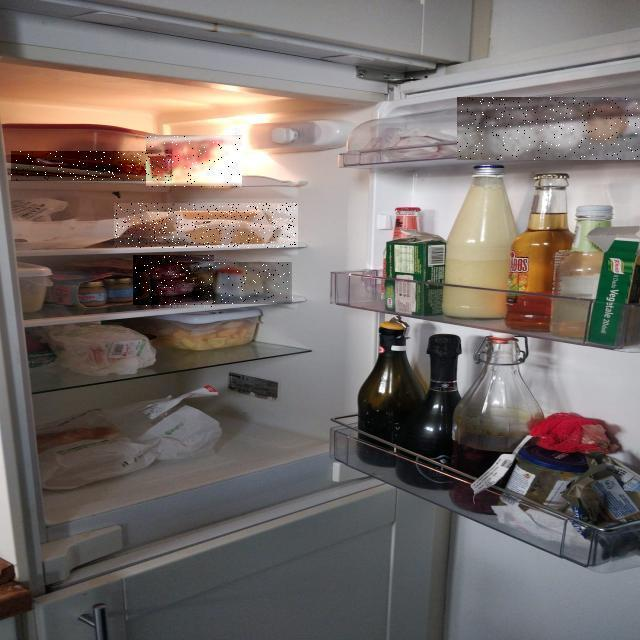cheese: (67, 152, 361, 456), (0, 124, 263, 372)
egg: (137, 80, 640, 240)
tomato: (25, 94, 267, 282)
